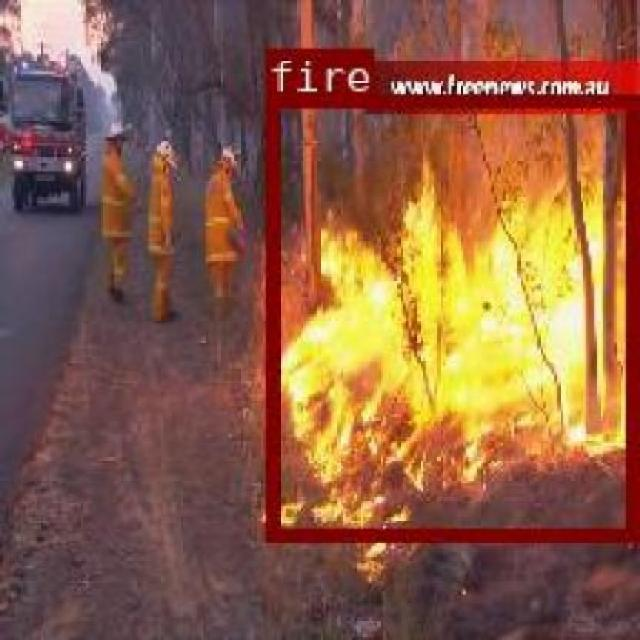Fire: (369, 316, 450, 445)
